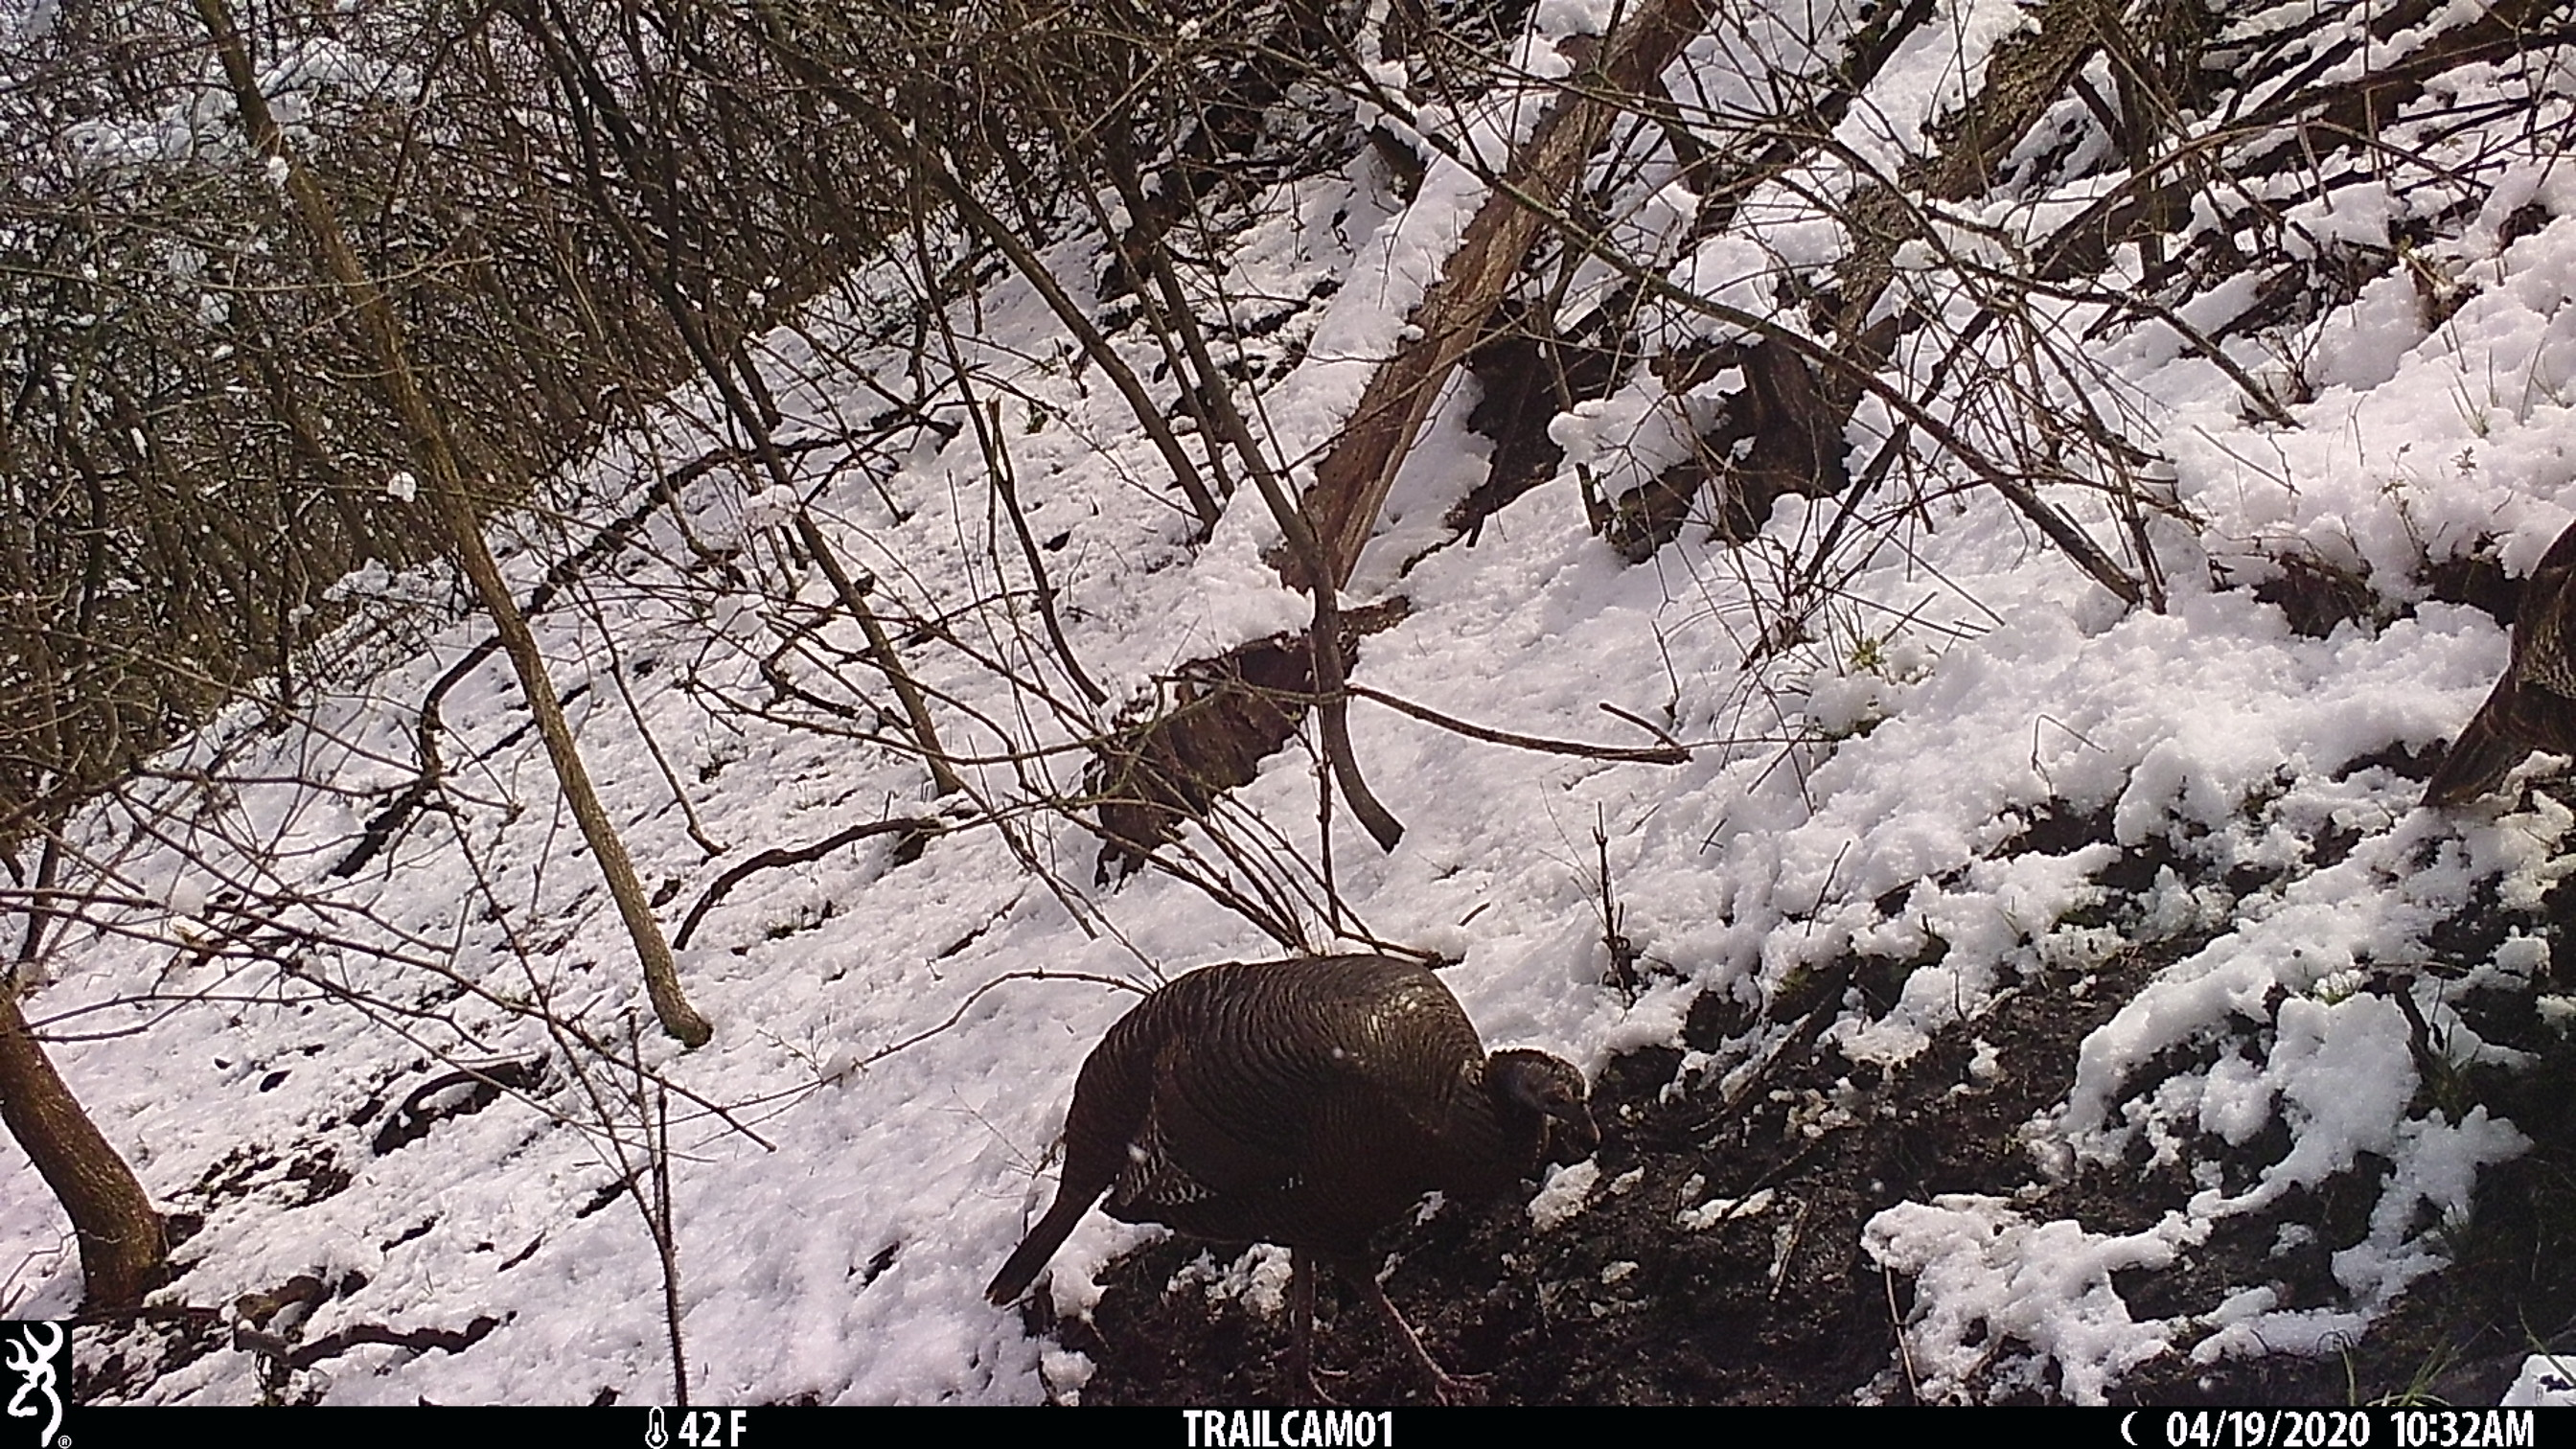Turkey: (980, 952, 1606, 1313)
